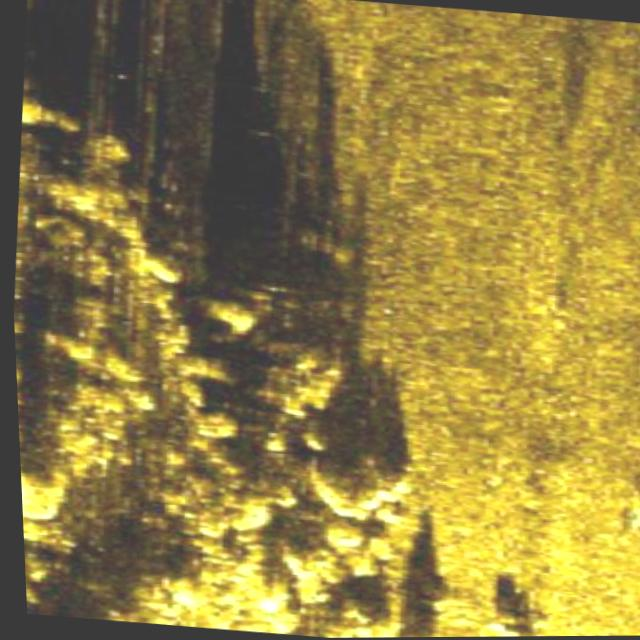bedrock group: (3, 83, 482, 640)
